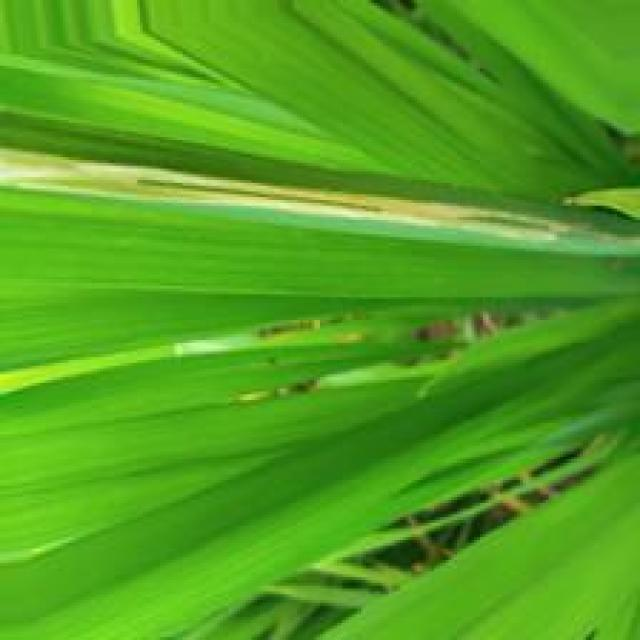Rice_Hispa: (0, 155, 587, 243)
